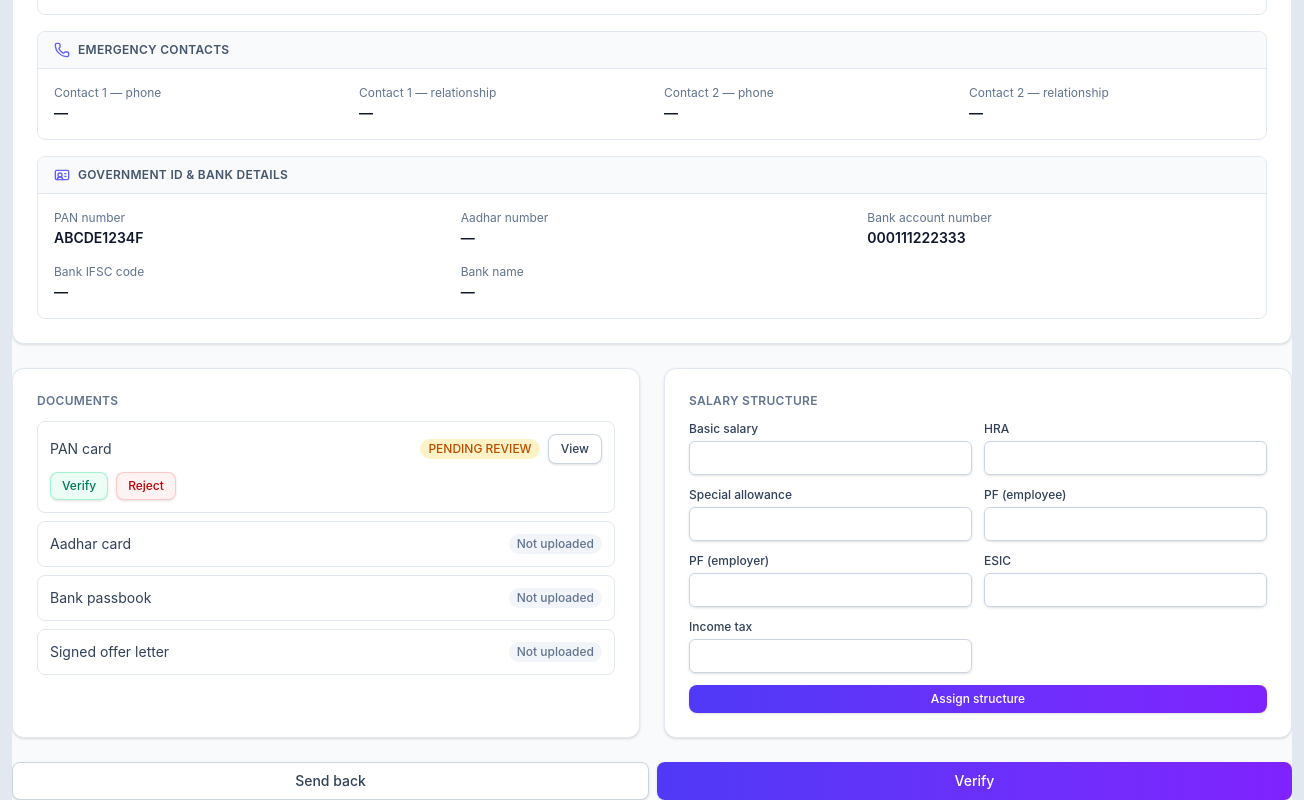
Test: EmployeeVerificationDetailPage › verifies a document and updates its status without a page reload
(page scrolled)
Expected: the text "PENDING REVIEW" is shown, [420, 439, 540, 459]
Step 1. Click the button "Verify" below "PAN card" → (79, 486), box [50, 472, 108, 500]
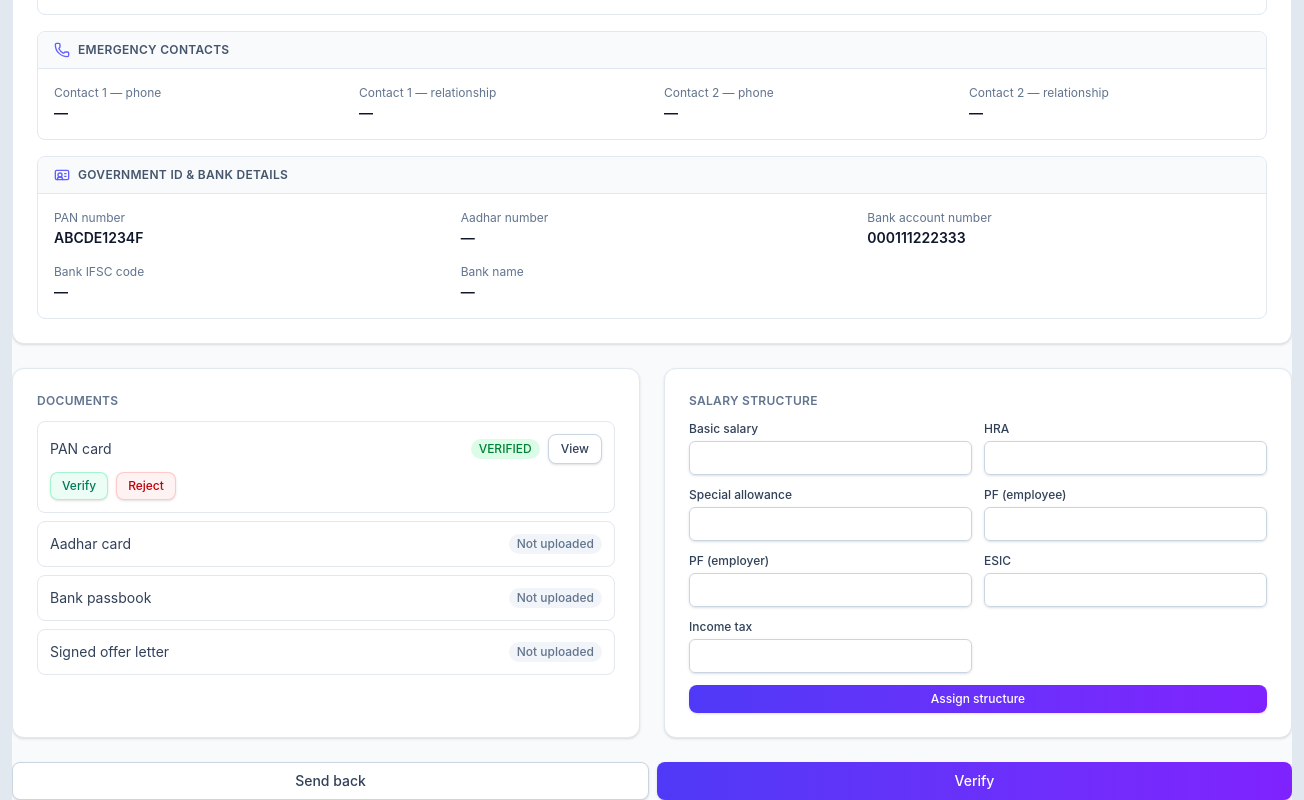
Expected: the text "VERIFIED" is shown, [471, 439, 540, 459]
